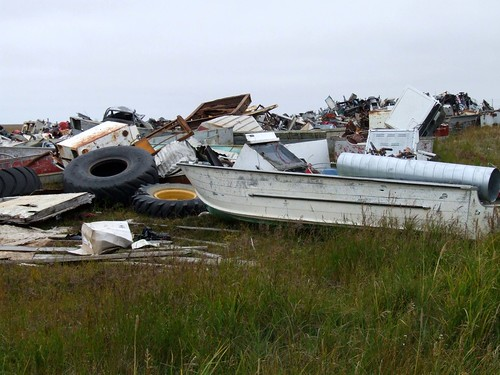boat: (179, 148, 500, 246)
grass: (10, 253, 500, 373)
sky: (8, 1, 500, 104)
trash: (1, 92, 448, 279)
